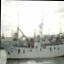fishing boat: (1, 21, 64, 63)
